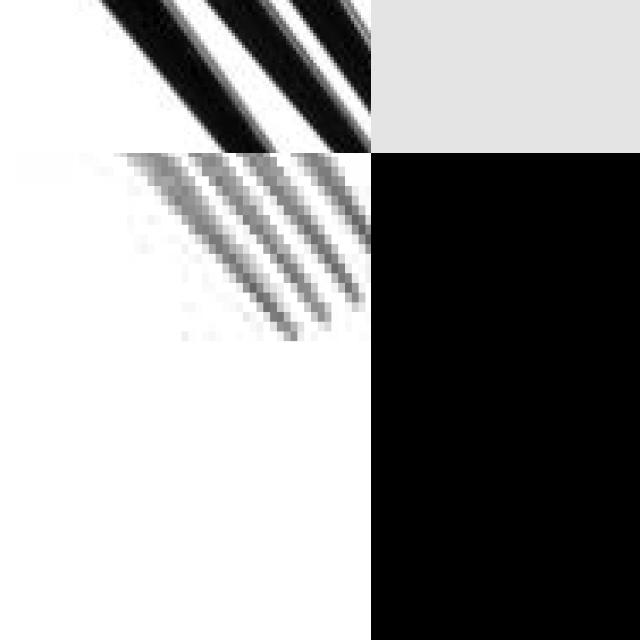forks: (0, 153, 371, 370), (0, 0, 371, 153)
